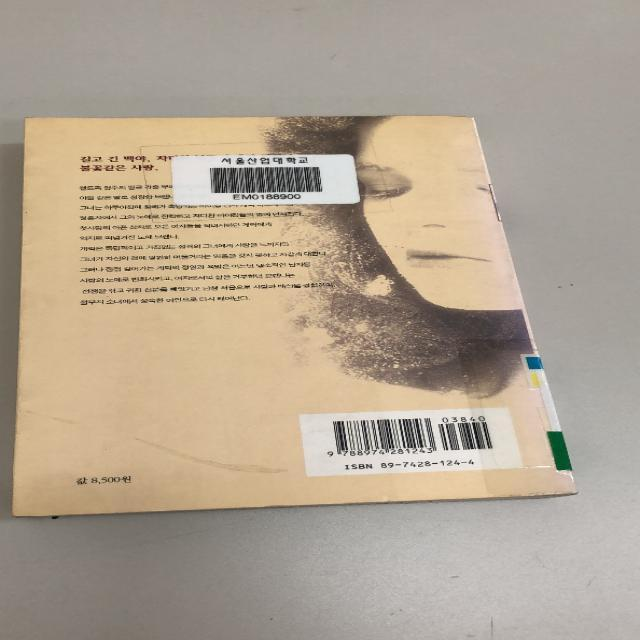Wornout: (66, 113, 202, 128), (11, 502, 123, 520), (521, 485, 581, 501), (21, 112, 52, 125)
